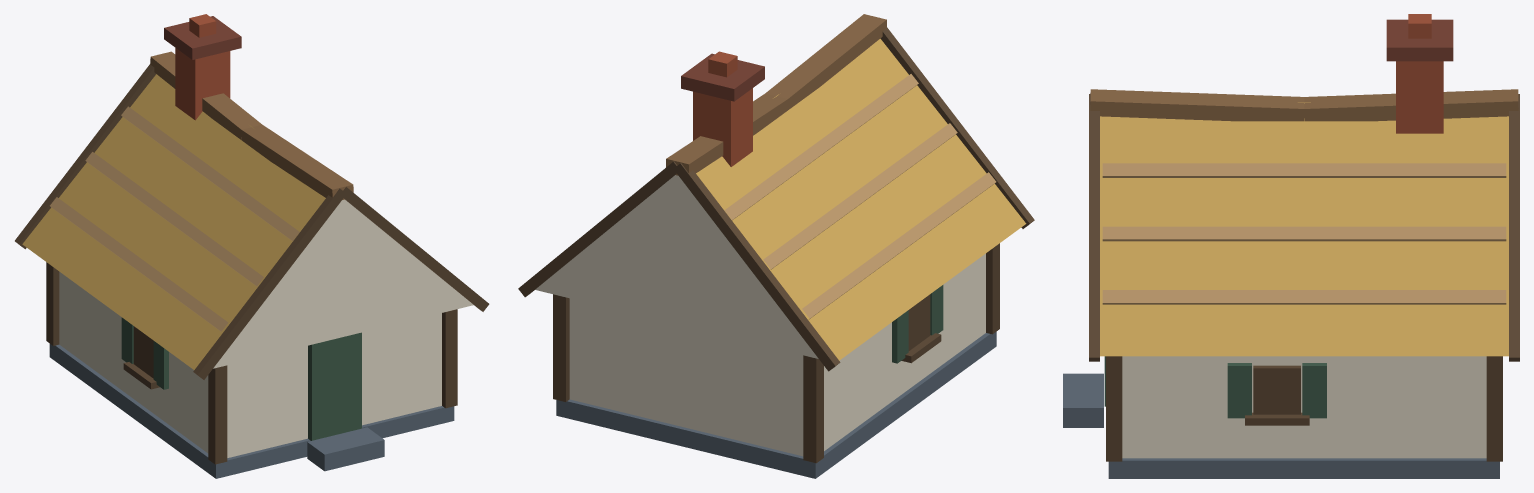
File: cottage-c0.glb
The picture shows the model from 3 angles, left to right: view 1: azimuth 30°, elevation 25°; view 2: azimuth 150°, elevation 25°; view 3: azimuth 270°, elevation 25°; orthographic projection. The views are drawn at different scales.
Parts seen in each view (by area): view 1: house, accent; view 2: house, accent; view 3: house, accent.
Part boxes in pixels (x1=…): house: x1=15, y1=14, x2=489, y2=478; accent: x1=121, y1=317, x2=361, y2=440; house: x1=518, y1=14, x2=1034, y2=478; accent: x1=892, y1=285, x2=943, y2=363; house: x1=1063, y1=14, x2=1519, y2=478; accent: x1=1104, y1=356, x2=1326, y2=418.
Bounding box in the file's own units: 5.83 × 6.36 × 6.72.
1 material, 1 textured.
